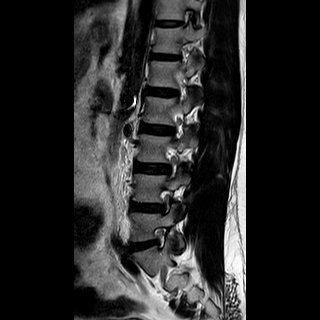LFS0: (149, 221, 173, 255)
LFS1: (154, 185, 176, 219)
